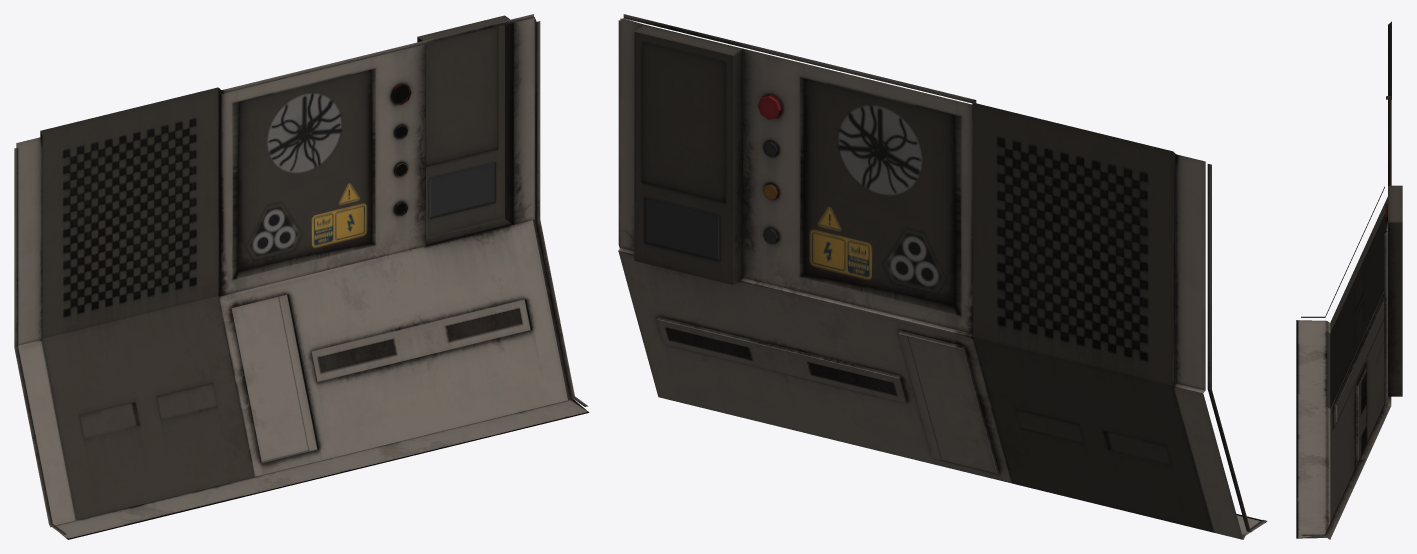
File: back.gltf
3 renders of one model, left to right at view 1: azimuth 30°, elevation 25°; view 2: azimuth 150°, elevation 25°; view 3: azimuth 270°, elevation 25°, orthographic. The views are drawn at different scales.
Visible parts, largest first — view 1: BACK; view 2: BACK; view 3: BACK.
Boxes of the visible parts, left/top/right/bottom form: BACK: left=14, top=14, right=589, bottom=539; BACK: left=618, top=14, right=1267, bottom=539; BACK: left=1296, top=21, right=1402, bottom=539.
Size of the model in its own units: 2.65 by 1.75 by 0.5413.
1 material, 1 textured.
